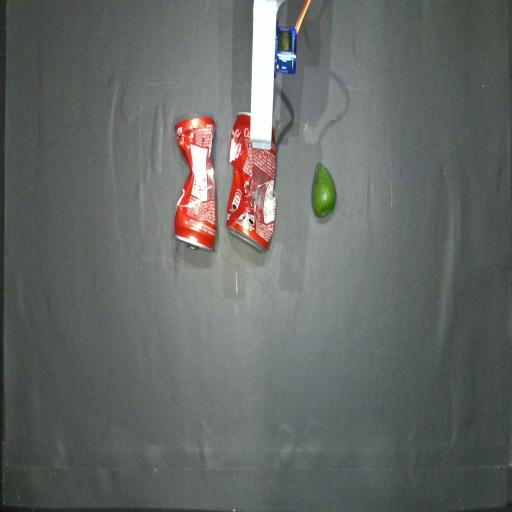higo: (312, 163, 336, 217)
lata_defectuoso: (226, 113, 275, 251), (174, 117, 218, 250)
